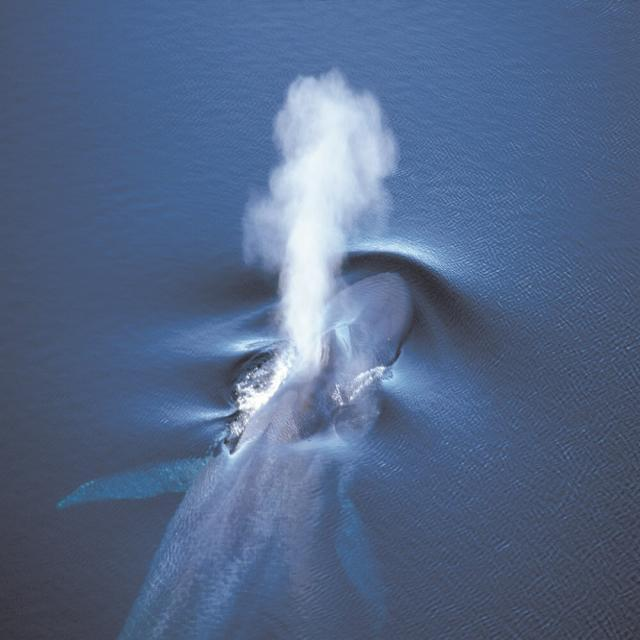blue_whale: (61, 216, 464, 640)
